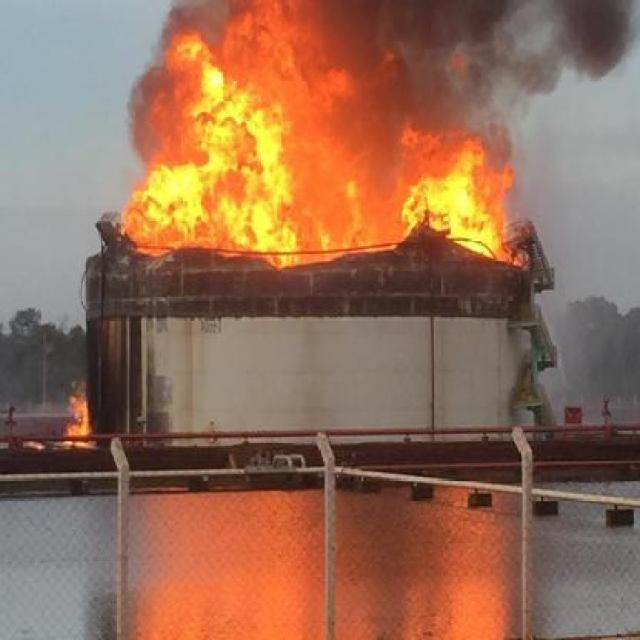Fire: (129, 26, 526, 268), (48, 383, 106, 452)
